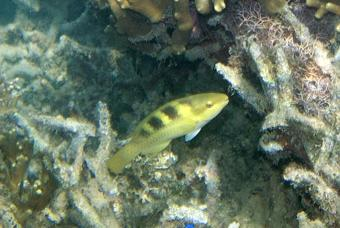Scaridae -Parrotfishes-: (103, 87, 227, 178)
